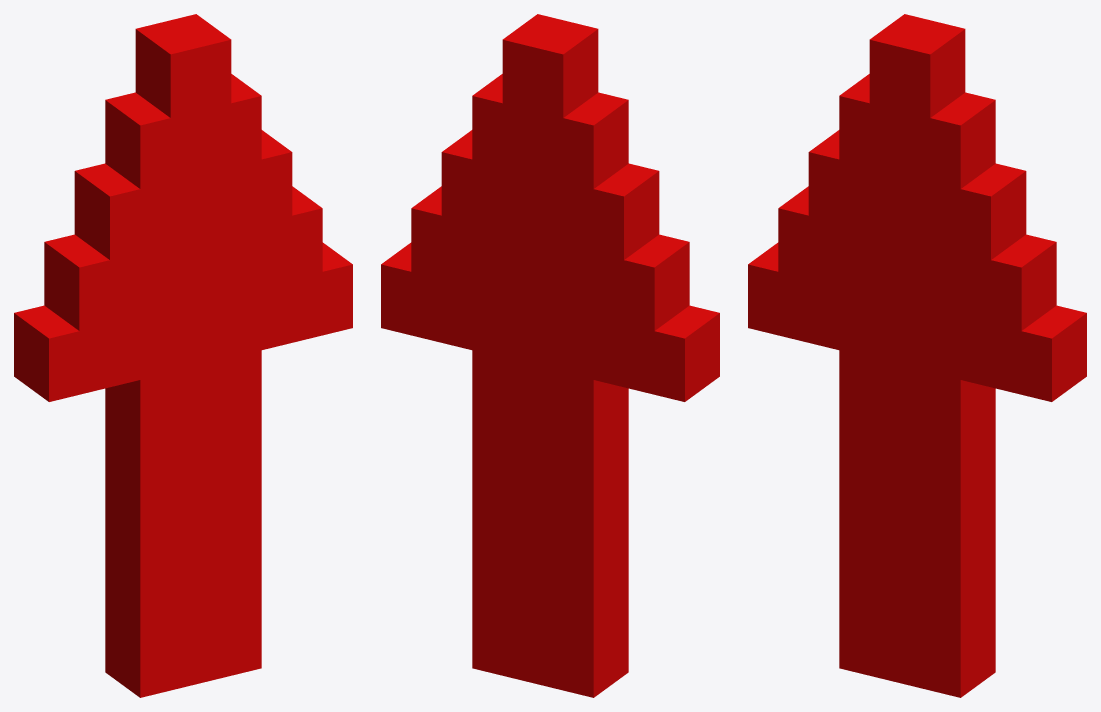
The model's file is arrow.obj.
3 views of the same model, side by side, from view 1: azimuth 30°, elevation 25°; view 2: azimuth 150°, elevation 25°; view 3: azimuth 330°, elevation 25° (orthographic).
Size of the model in its own units: 10 by 20 by 2.
Materials: 1 (1 with a texture image).
